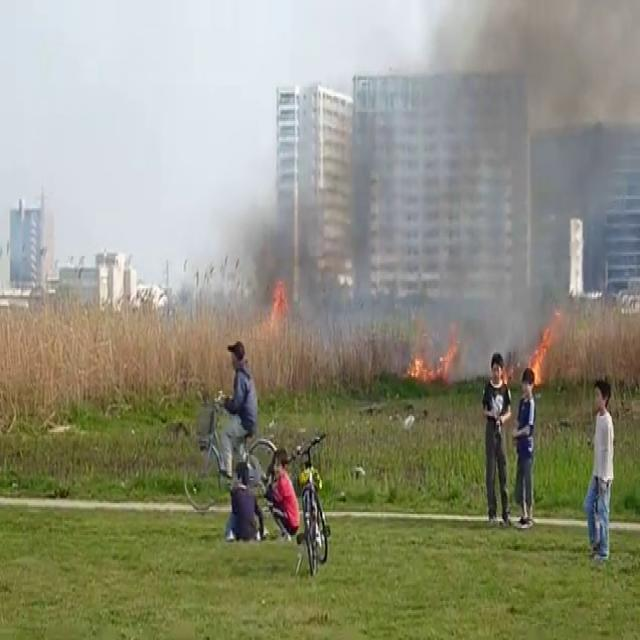Fire: (258, 256, 305, 368), (405, 324, 463, 391), (526, 310, 558, 392)
Smoke: (140, 0, 638, 359), (358, 0, 640, 359), (466, 0, 640, 354)
